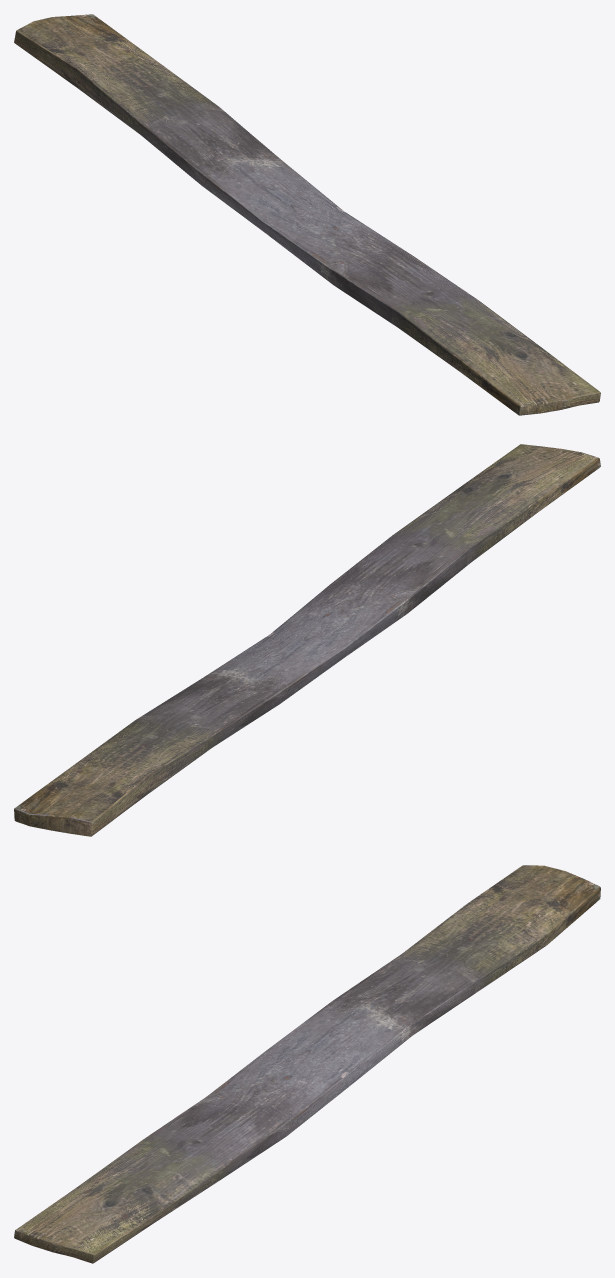
File: sm_WoodPlank_01_01.fbx
3 renders of one model, top to bottom at view 1: azimuth 30°, elevation 25°; view 2: azimuth 150°, elevation 25°; view 3: azimuth 330°, elevation 25°, orthographic. The views are drawn at different scales.
Visible parts, largest first — view 1: sm_WoodPlank_01_01_LOD0; view 2: sm_WoodPlank_01_01_LOD0; view 3: sm_WoodPlank_01_01_LOD0.
Boxes of the visible parts, x1,y1,x2,y2 form: sm_WoodPlank_01_01_LOD0: (14,14,600,415); sm_WoodPlank_01_01_LOD0: (14,444,600,836); sm_WoodPlank_01_01_LOD0: (14,865,600,1263).
Bounding box in the file's own units: 15.21 × 149 × 4.98.
